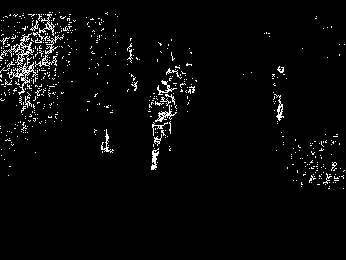person: (147, 80, 178, 175), (271, 63, 288, 122)
